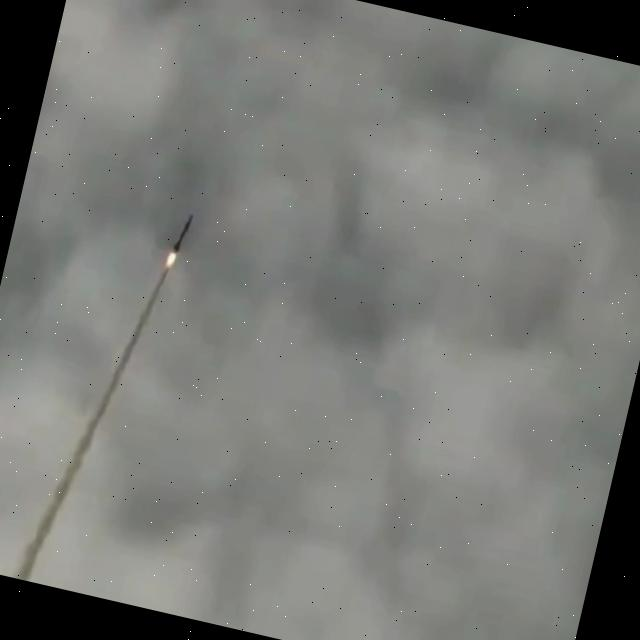rocket: (165, 215, 193, 267)
smoke_trail_with_rocket: (11, 216, 193, 582)
